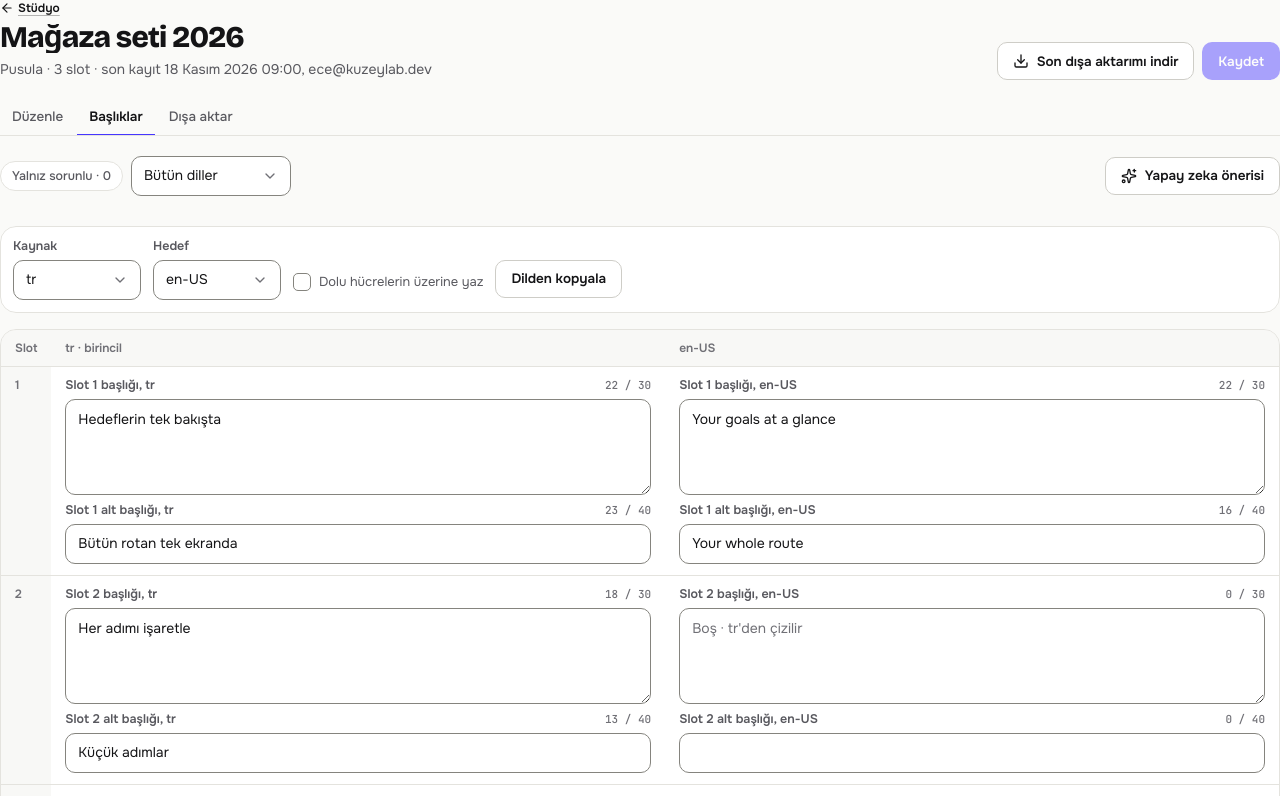
it: template editor: captions › turns the AI suggestion off for the session when the platform answers 503
Step 1. Click the button "Yapay zeka önerisi" → [1192, 176], box [1105, 157, 1279, 195]
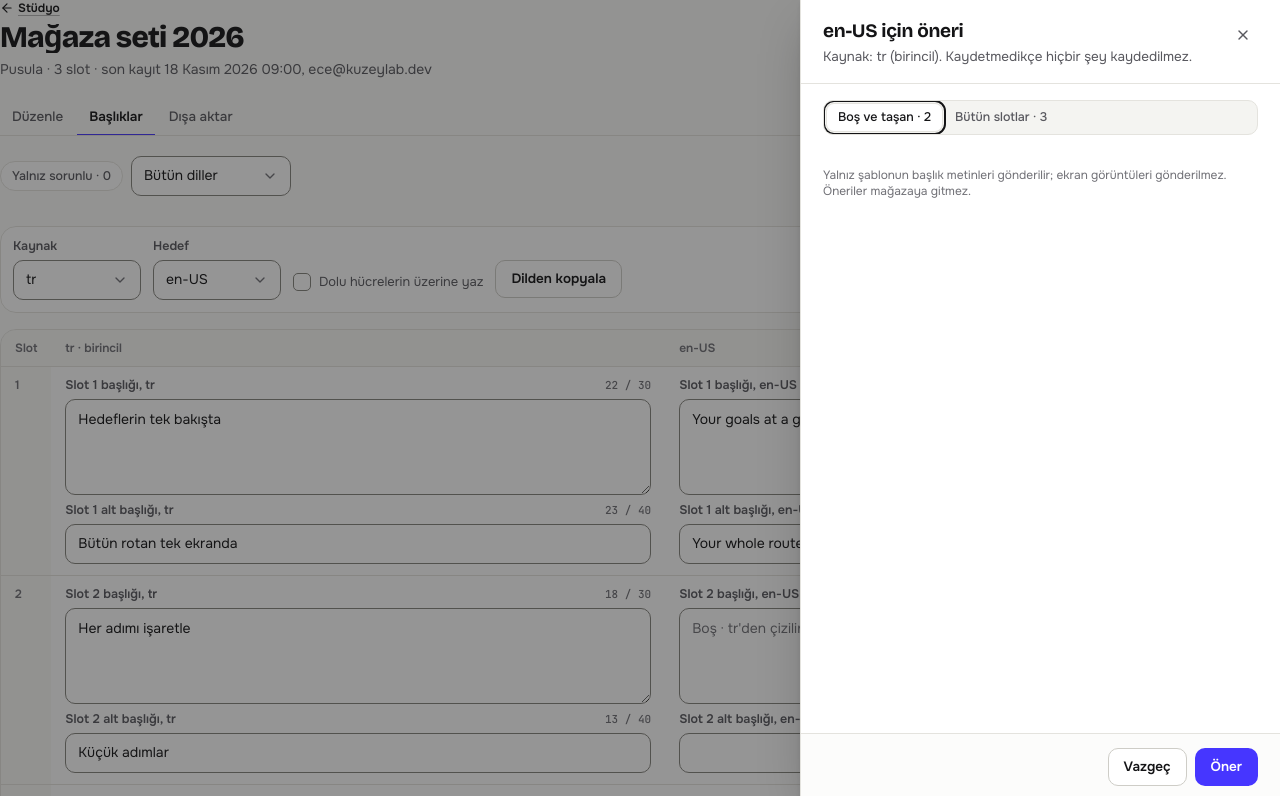
Step 2. Click the button "Öner" → [1226, 767], box [1194, 748, 1258, 786]
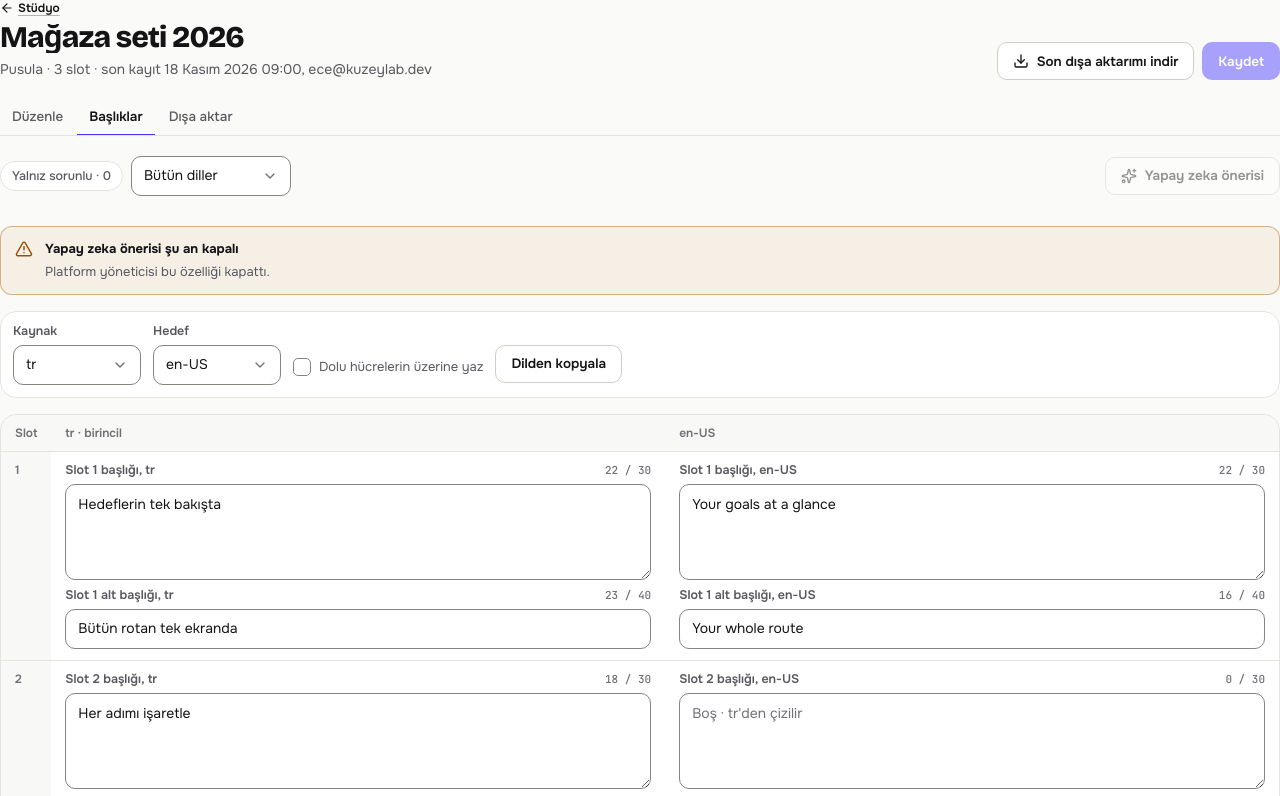
Expected: the text "Yapay zeka önerisi şu an kapalı" is shown, [45, 239, 270, 258]
Expected: the text "Platform yöneticisi bu özelliği kapattı." is shown, [45, 262, 270, 282]
Expected: the button "Yapay zeka önerisi" is disabled, [1105, 157, 1279, 195]
